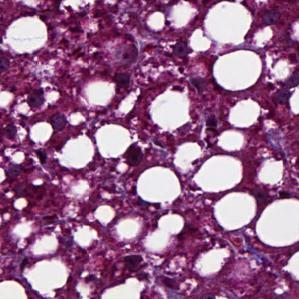steatosis: (132, 163, 183, 206), (214, 50, 263, 92), (212, 192, 256, 231)
